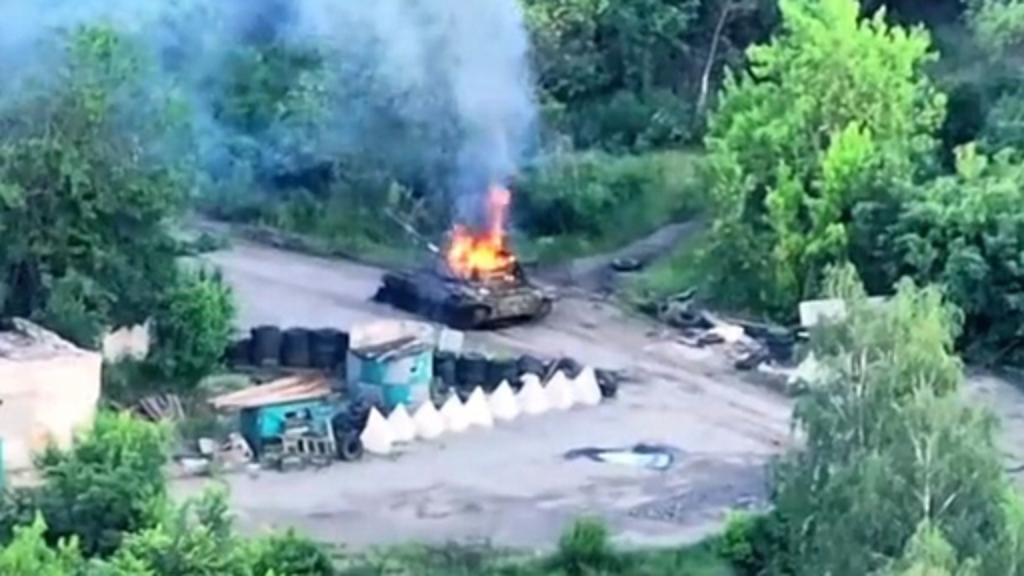TANK: (374, 200, 554, 332)
